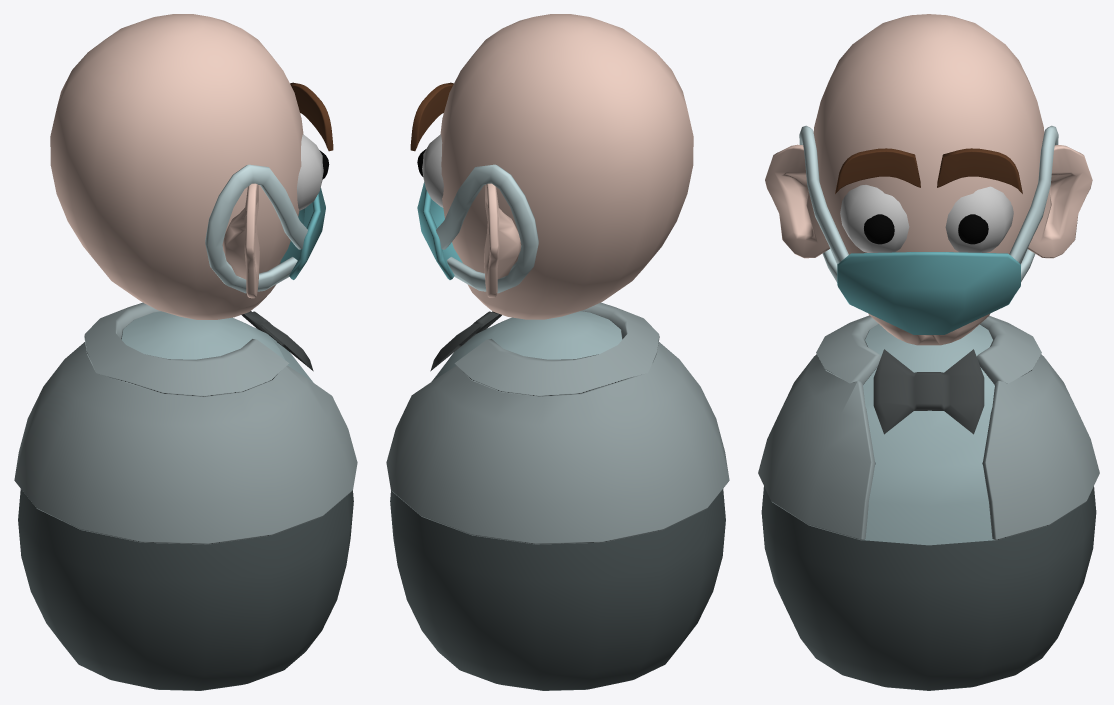
The model's file is geoffBasil.fbx.
The picture shows the model from 3 angles, left to right: view 1: azimuth 30°, elevation 25°; view 2: azimuth 150°, elevation 25°; view 3: azimuth 270°, elevation 25°; orthographic projection.
Parts seen in each view (by area): view 1: polySurface16, polySurface24, polySurface20, polySurface18, polySurface22, polySurface13, polySurface10, polySurface15, polySurface17, polySurface23; view 2: polySurface16, polySurface24, polySurface20, polySurface18, polySurface21, polySurface12, polySurface10, polySurface14, polySurface19, polySurface23; view 3: polySurface20, polySurface24, polySurface16, polySurface18, polySurface10, polySurface23, polySurface13, polySurface12, polySurface15, polySurface19, polySurface14, polySurface17 (+4 smaller).
Boxes of the visible parts, box(x1,y1,x2,y2) form: polySurface16: box(14, 302, 357, 544); polySurface24: box(50, 14, 303, 319); polySurface20: box(18, 489, 353, 690); polySurface18: box(121, 311, 313, 382); polySurface22: box(205, 164, 307, 293); polySurface13: box(223, 183, 259, 298); polySurface10: box(280, 187, 325, 279); polySurface15: box(296, 134, 323, 210); polySurface17: box(290, 82, 333, 151); polySurface23: box(241, 311, 313, 371); polySurface16: box(386, 302, 729, 544); polySurface24: box(440, 14, 693, 319); polySurface20: box(390, 489, 725, 690); polySurface18: box(431, 311, 622, 381); polySurface21: box(436, 164, 538, 293); polySurface12: box(484, 183, 520, 297); polySurface10: box(417, 182, 462, 279); polySurface14: box(410, 82, 453, 151); polySurface19: box(422, 134, 443, 207); polySurface23: box(430, 311, 501, 371); polySurface20: box(761, 462, 1096, 690); polySurface24: box(813, 14, 1044, 345); polySurface16: box(758, 315, 1099, 540); polySurface18: box(863, 324, 994, 545); polySurface10: box(837, 252, 1020, 334); polySurface23: box(873, 349, 984, 434); polySurface13: box(765, 144, 829, 258); polySurface12: box(1027, 145, 1092, 258); polySurface15: box(840, 185, 909, 252); polySurface19: box(945, 186, 1013, 252); polySurface14: box(937, 148, 1022, 193); polySurface17: box(835, 148, 920, 193).
Bounding box in the file's own units: 20.22 × 40.49 × 20.43.
